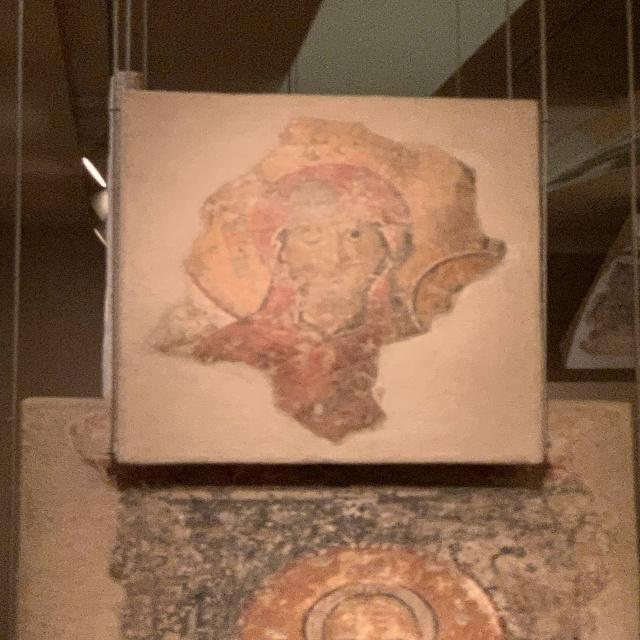aura: (188, 112, 487, 342)
mary: (253, 165, 417, 376)
